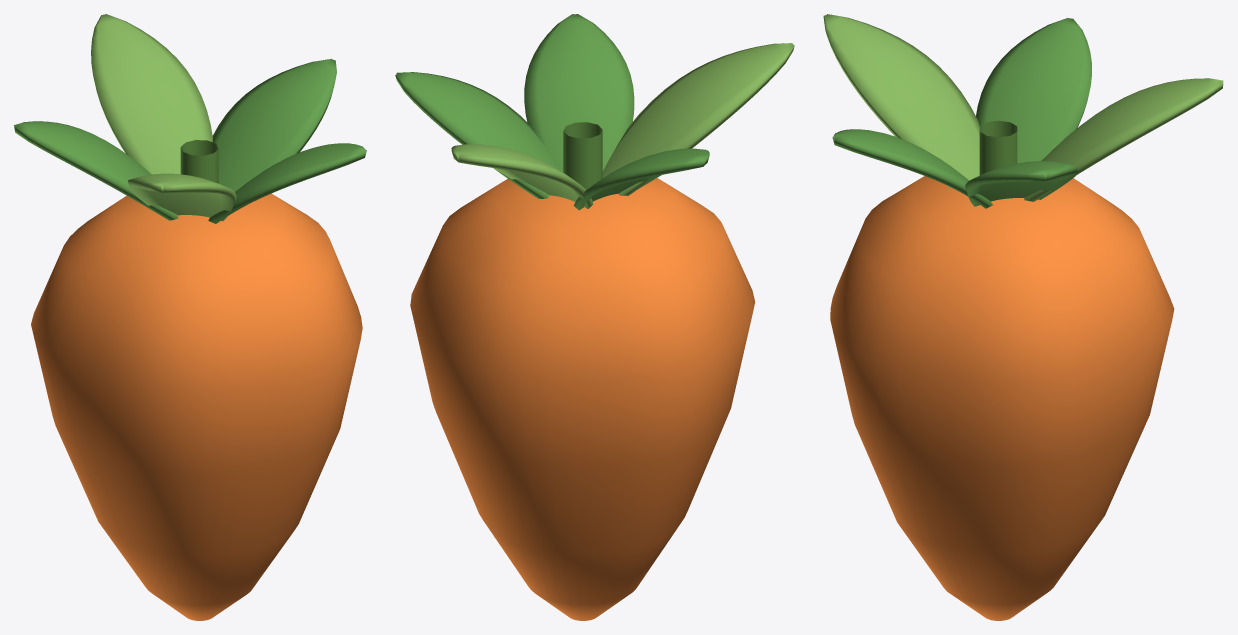
Rendered from carrot.glb.
The picture shows the model from 3 angles, left to right: view 1: azimuth 30°, elevation 25°; view 2: azimuth 150°, elevation 25°; view 3: azimuth 270°, elevation 25°; orthographic projection. The views are drawn at different scales.
Visible parts, largest first — view 1: Carrot | tapered root.001, Carrot | crown leaf.009, Carrot | crown leaf.005, Carrot | crown leaf.007, Carrot | crown leaf.008, Carrot | crown leaf.006, Carrot | crown stem.001; view 2: Carrot | tapered root.001, Carrot | crown leaf.008, Carrot | crown leaf.006, Carrot | crown leaf.005, Carrot | crown leaf.009, Carrot | crown leaf.007, Carrot | crown stem.001; view 3: Carrot | tapered root.001, Carrot | crown leaf.006, Carrot | crown leaf.007, Carrot | crown leaf.009, Carrot | crown leaf.008, Carrot | crown leaf.005, Carrot | crown stem.001.
Part boxes in pixels (x1=…): Carrot | tapered root.001: x1=31, y1=193, x2=362, y2=620; Carrot | crown leaf.009: x1=91, y1=14, x2=212, y2=174; Carrot | crown leaf.005: x1=212, y1=58, x2=336, y2=191; Carrot | crown leaf.007: x1=14, y1=121, x2=178, y2=220; Carrot | crown leaf.008: x1=208, y1=143, x2=366, y2=223; Carrot | crown leaf.006: x1=128, y1=173, x2=236, y2=221; Carrot | crown stem.001: x1=180, y1=140, x2=218, y2=183; Carrot | tapered root.001: x1=410, y1=178, x2=755, y2=620; Carrot | crown leaf.008: x1=524, y1=14, x2=634, y2=172; Carrot | crown leaf.006: x1=602, y1=43, x2=794, y2=195; Carrot | crown leaf.005: x1=395, y1=72, x2=561, y2=198; Carrot | crown leaf.009: x1=451, y1=144, x2=593, y2=208; Carrot | crown leaf.007: x1=574, y1=148, x2=709, y2=210; Carrot | crown stem.001: x1=563, y1=122, x2=602, y2=189; Carrot | tapered root.001: x1=830, y1=176, x2=1174, y2=620; Carrot | crown leaf.006: x1=823, y1=14, x2=979, y2=188; Carrot | crown leaf.007: x1=976, y1=18, x2=1091, y2=163; Carrot | crown leaf.009: x1=1024, y1=78, x2=1223, y2=201; Carrot | crown leaf.008: x1=832, y1=129, x2=992, y2=208; Carrot | crown leaf.005: x1=965, y1=161, x2=1078, y2=206; Carrot | crown stem.001: x1=979, y1=120, x2=1017, y2=175.
Size of the model in its own units: 0.8429 by 1.35 by 0.9075.
